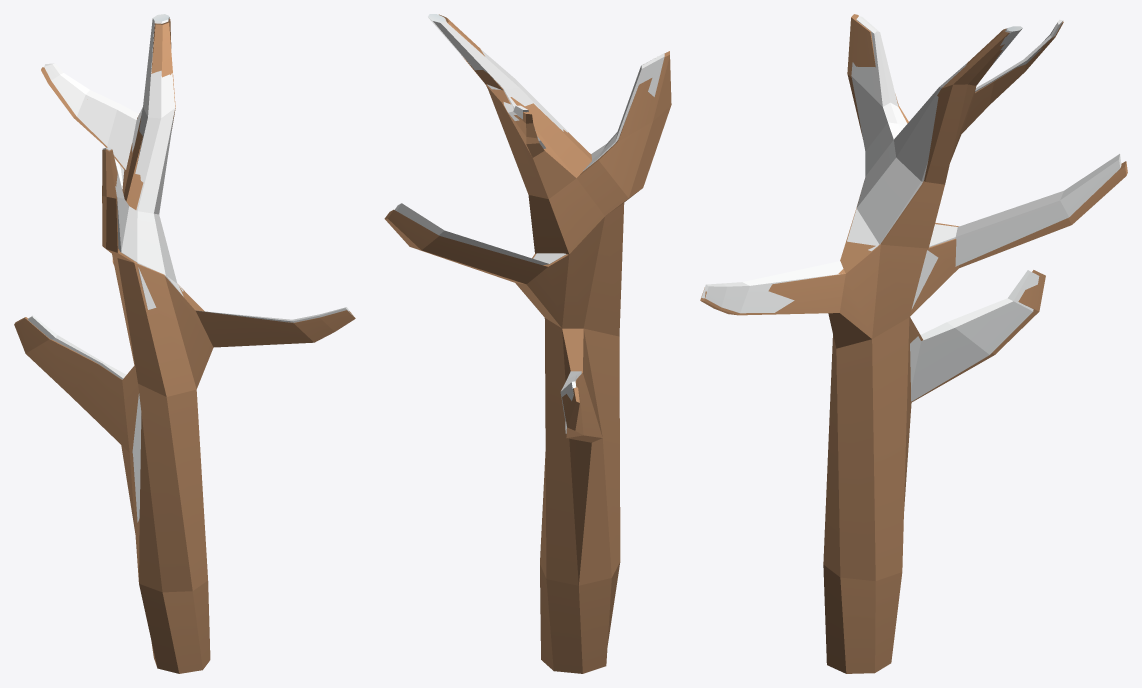
The model's file is arbuste3.fbx.
The picture shows the model from 3 angles, left to right: view 1: azimuth 30°, elevation 25°; view 2: azimuth 150°, elevation 25°; view 3: azimuth 270°, elevation 25°; orthographic projection. The views are drawn at different scales.
Parts seen in each view (by area): view 1: Cylinder.087, Cylinder.090; view 2: Cylinder.087, Cylinder.090; view 3: Cylinder.087, Cylinder.090.
Part boxes in pixels (x1,y1,x2,y2): Cylinder.087: [14, 18, 355, 673]; Cylinder.090: [27, 14, 353, 522]; Cylinder.087: [384, 14, 671, 673]; Cylinder.090: [395, 14, 664, 433]; Cylinder.087: [700, 14, 1127, 673]; Cylinder.090: [701, 16, 1121, 401].
Size of the model in its own units: 0.4754 by 1.39 by 0.815.
1 material, 1 textured.
